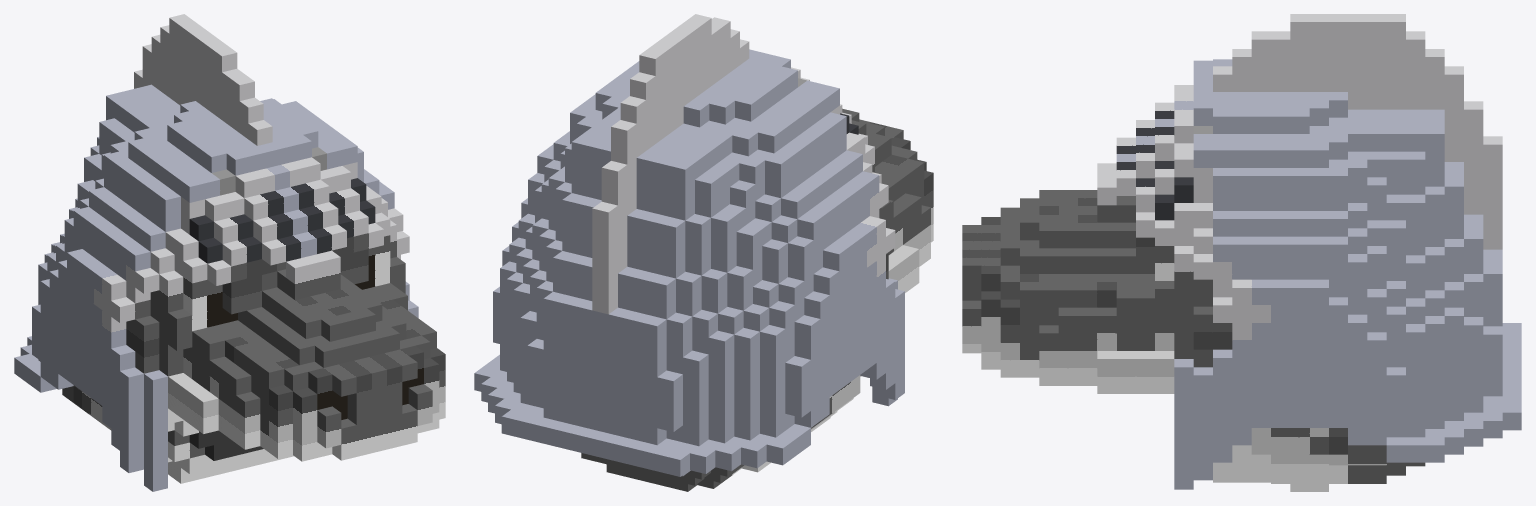
Rendered from knight helmet_cool dude glasses.gltf.
3 views of the same model, side by side, from view 1: azimuth 30°, elevation 25°; view 2: azimuth 150°, elevation 25°; view 3: azimuth 270°, elevation 25° (orthographic). The views are drawn at different scales.
Visible parts, largest first — view 1: C38_H_KnightH_CoolDudeG_3DG_RBShade-Mesh; view 2: C38_H_KnightH_CoolDudeG_3DG_RBShade-Mesh; view 3: C38_H_KnightH_CoolDudeG_3DG_RBShade-Mesh.
Boxes of the visible parts, x1,y1,x2,y2 form: C38_H_KnightH_CoolDudeG_3DG_RBShade-Mesh: (14, 14, 445, 491); C38_H_KnightH_CoolDudeG_3DG_RBShade-Mesh: (474, 14, 933, 491); C38_H_KnightH_CoolDudeG_3DG_RBShade-Mesh: (962, 14, 1521, 491).
Size of the model in its own units: 19 by 25 by 29.
1 material, 1 textured.
